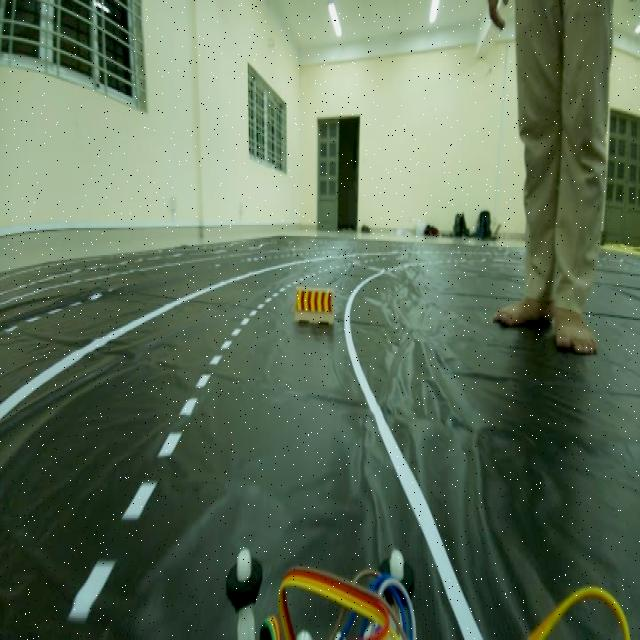roadblock: (292, 278, 346, 327)
